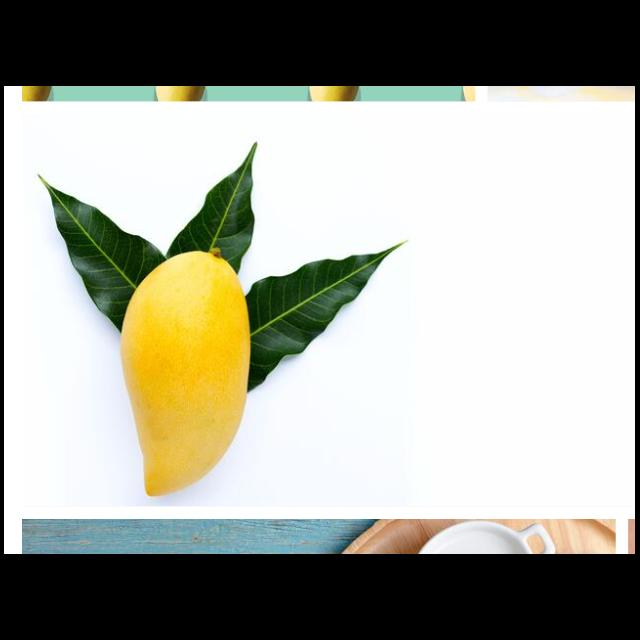mango: (120, 250, 253, 498)
